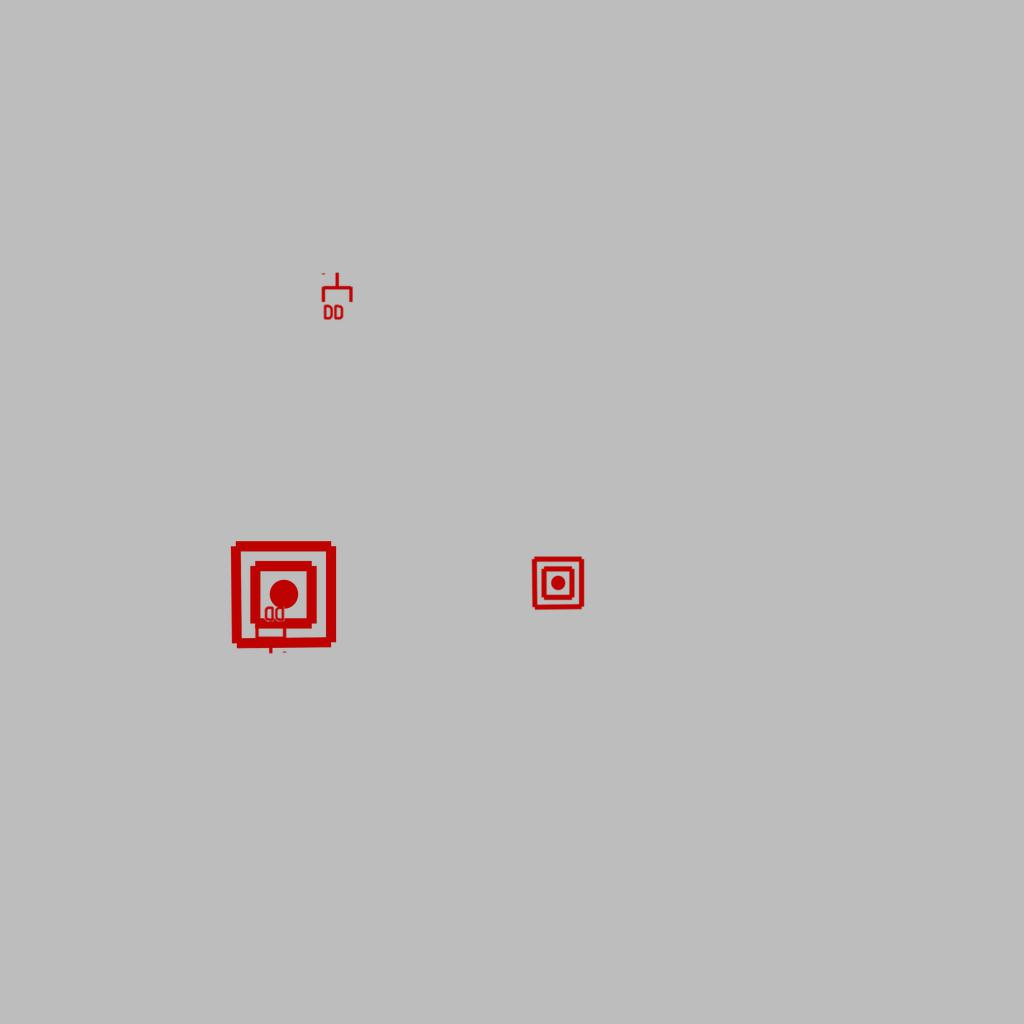Datenanschluss_zweifach: (321, 271, 355, 322), (253, 604, 287, 655)
NAM-Nichtautomatischer_Melder: (227, 538, 340, 651), (530, 555, 586, 611)
